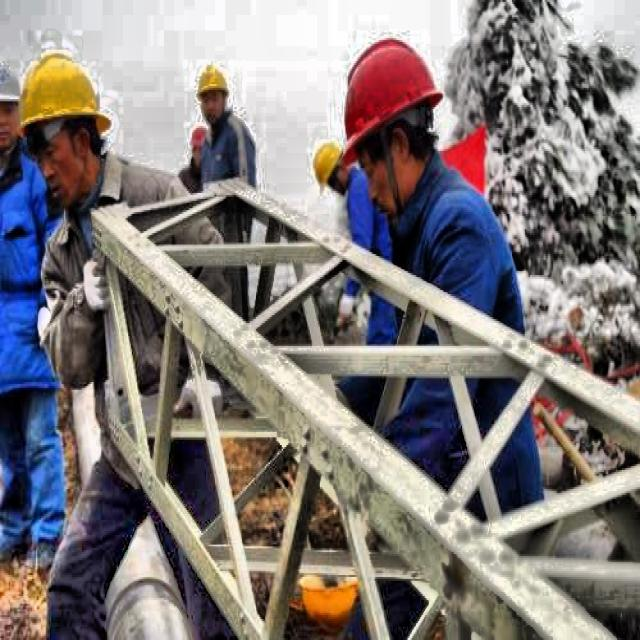helmet: (329, 21, 453, 218), (18, 36, 123, 208), (307, 137, 355, 200), (195, 54, 233, 126), (1, 58, 26, 164)
